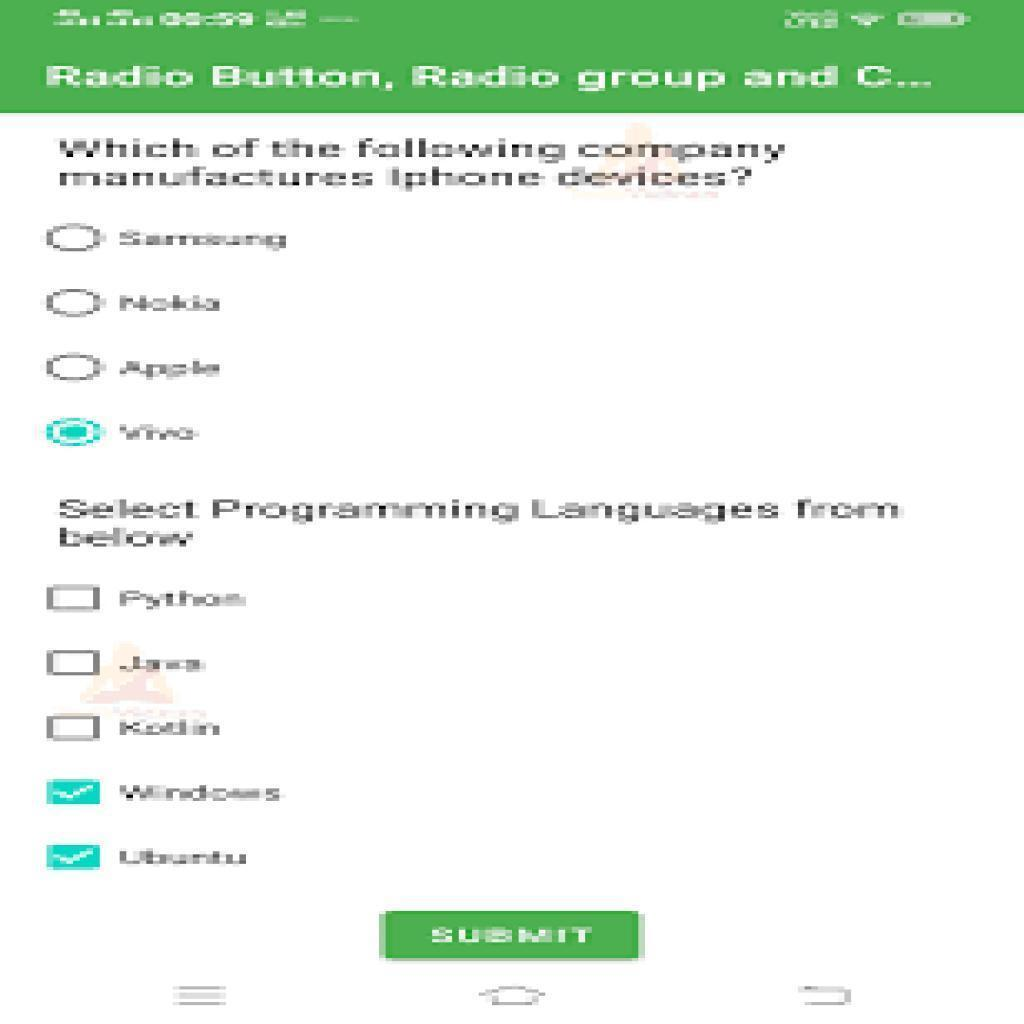button: (384, 912, 637, 958)
checkbox: (46, 841, 101, 870), (47, 779, 101, 806), (48, 717, 101, 743), (49, 585, 101, 610), (47, 650, 99, 674)
radio: (45, 221, 107, 254), (45, 415, 107, 448), (45, 287, 107, 319), (46, 349, 106, 381)
